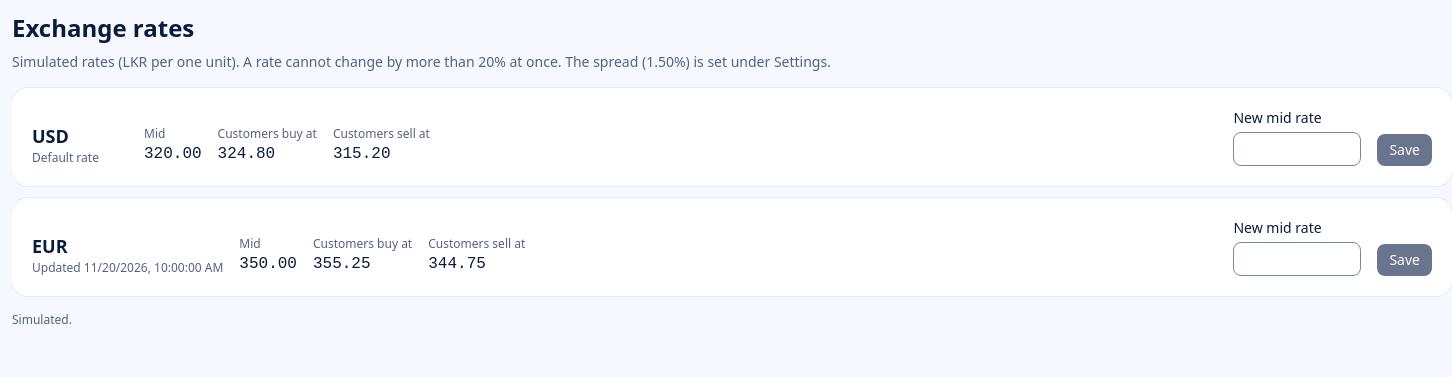
exchange rates (staff) › shows the bank's refusal when a change is too large
The width and height of the screenshot is (1452, 377).
Expected: the text "324.80" is shown, [218, 145, 275, 163]
Type "900" into the field named "New mid rate for USD" at (1297, 149), box [1233, 132, 1361, 166]
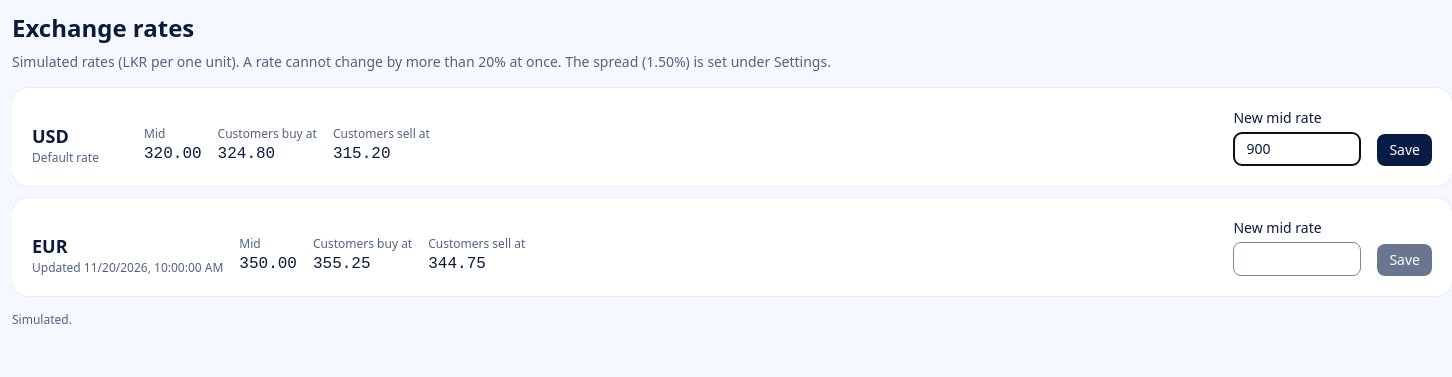
Click the button "Save" in the row of "USD" at (1405, 150), box [1377, 134, 1432, 166]
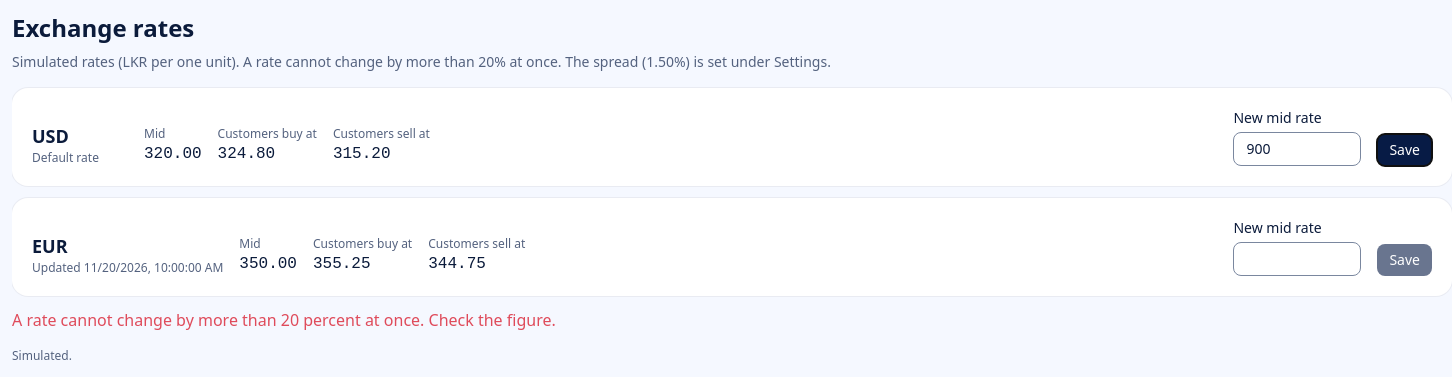
Result: the message shows "more than 20 percent" at [12, 309, 556, 331]
